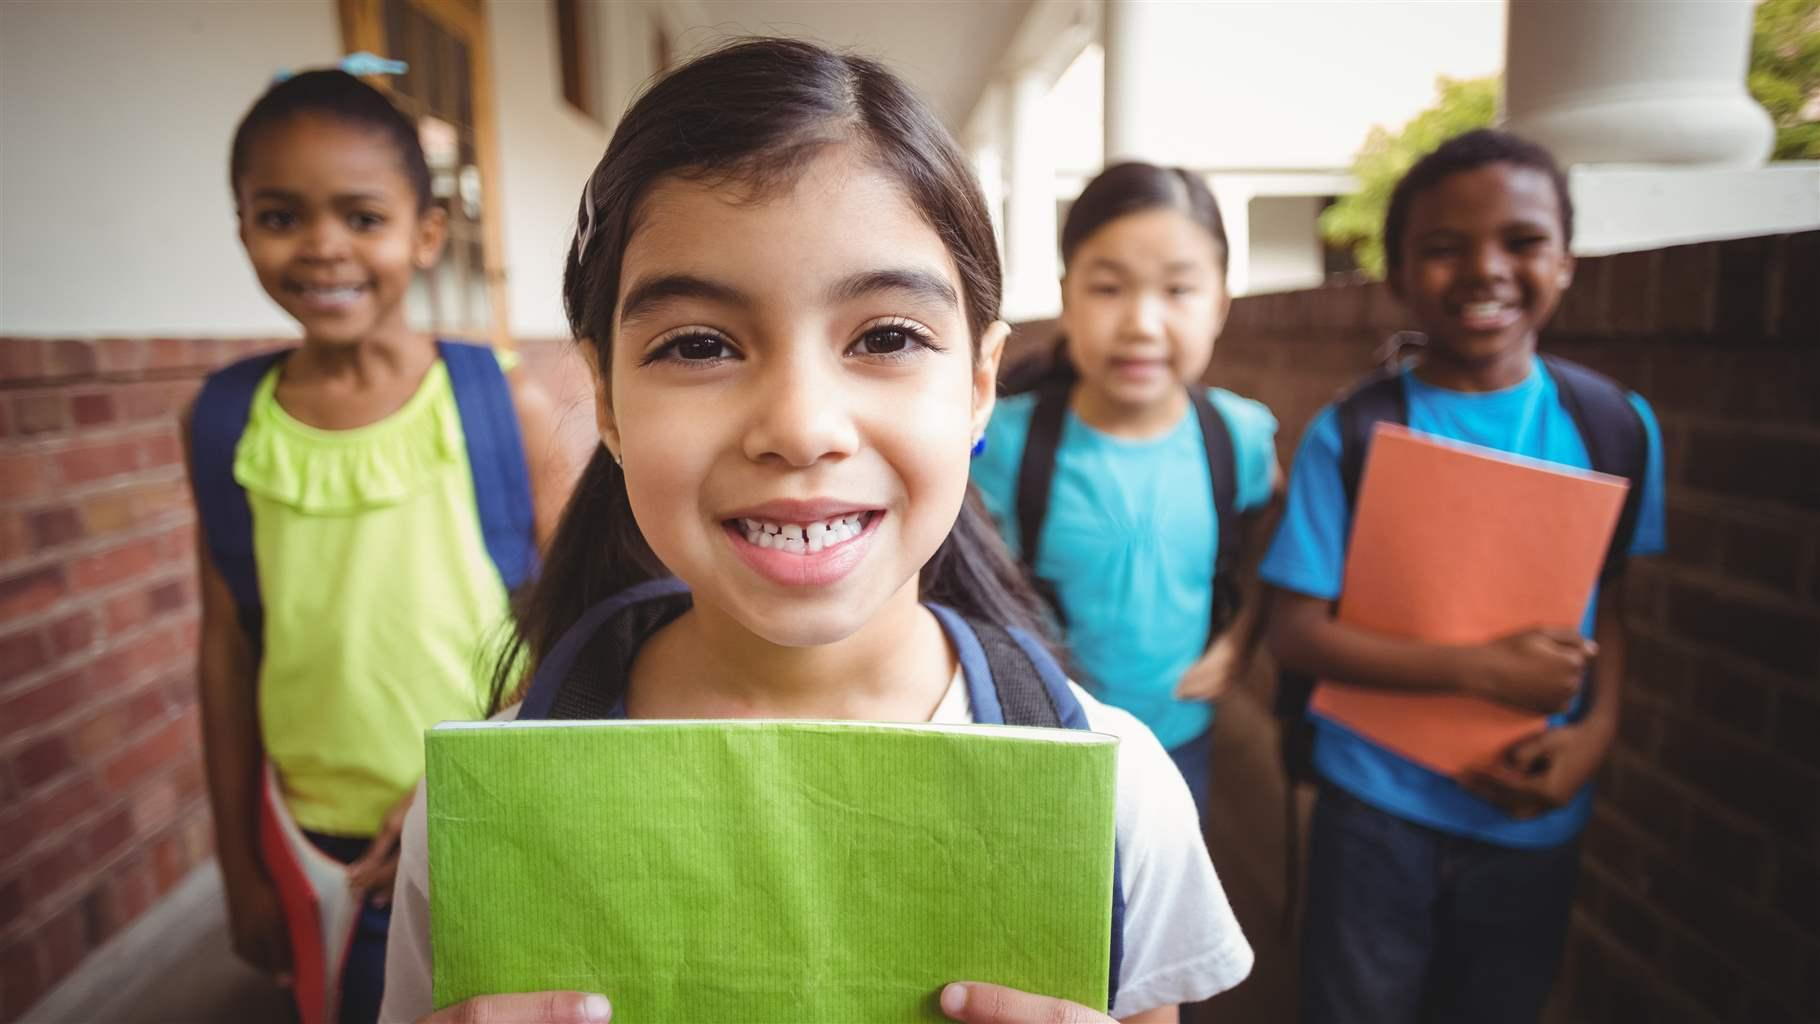human: (368, 52, 1242, 1024), (154, 71, 634, 994), (1283, 99, 1659, 1024), (944, 111, 1288, 799)
